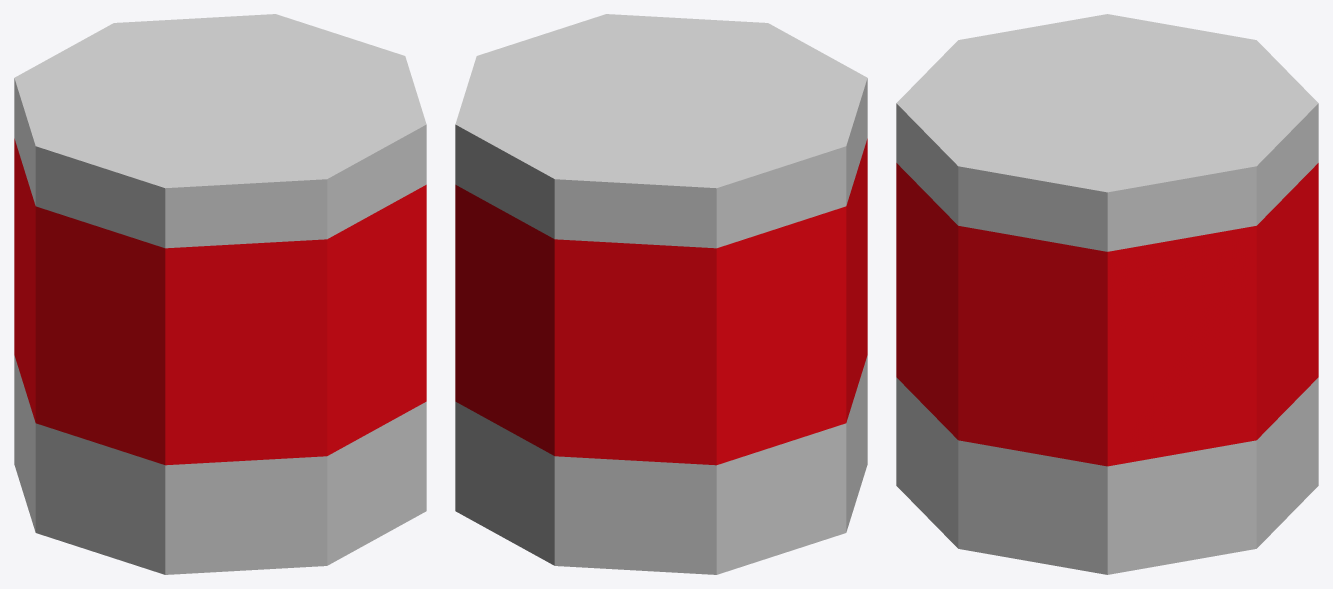
File: Garbage-Metal-FoodCan.glb
3 views of the same model, side by side, from view 1: azimuth 30°, elevation 25°; view 2: azimuth 150°, elevation 25°; view 3: azimuth 270°, elevation 25° (orthographic).
Parts seen in each view (by area): view 1: Garbage.M.FoodCan; view 2: Garbage.M.FoodCan; view 3: Garbage.M.FoodCan.
Boxes of the visible parts, x1=… form: Garbage.M.FoodCan: x1=14, y1=14, x2=426, y2=574; Garbage.M.FoodCan: x1=455, y1=14, x2=867, y2=574; Garbage.M.FoodCan: x1=896, y1=14, x2=1318, y2=574.
Size of the model in its own units: 0.3262 by 0.3262 by 0.3262.
